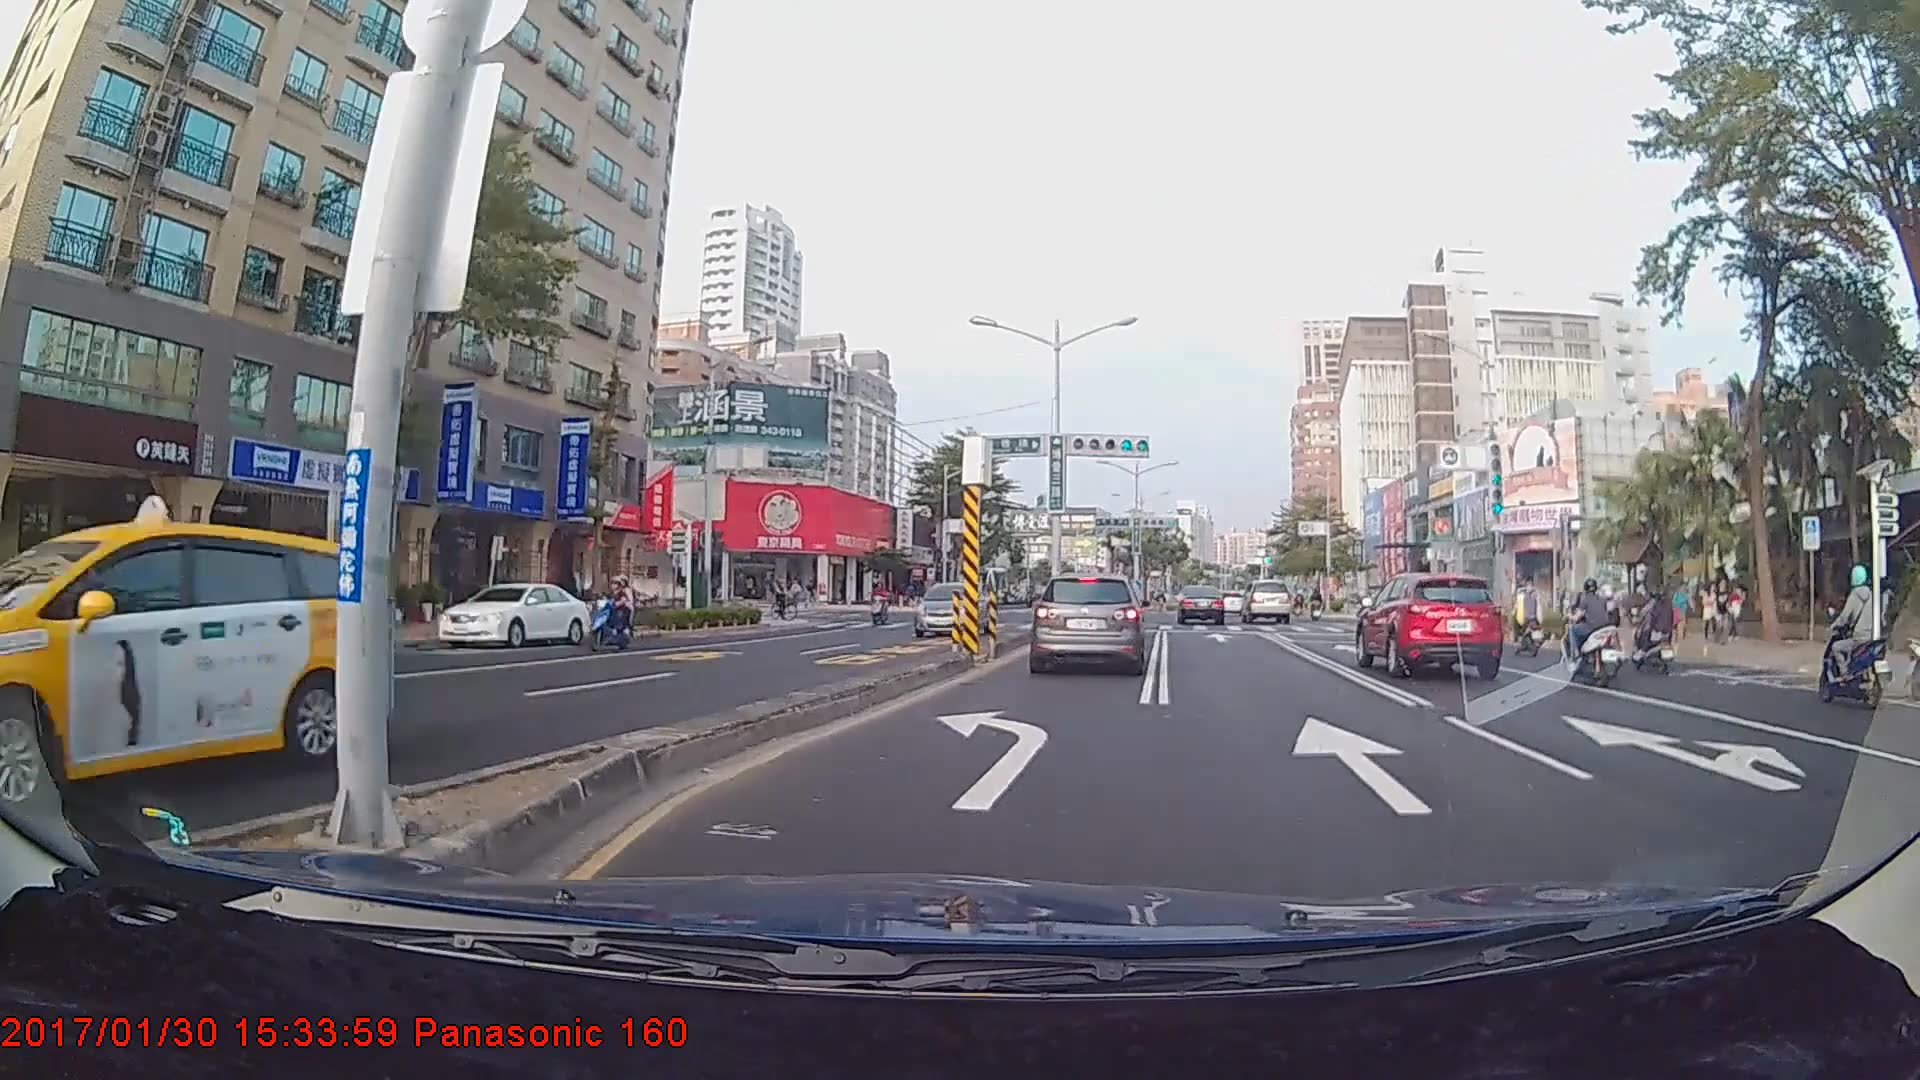pedestrian: (1672, 580, 1694, 647), (1713, 580, 1733, 644), (1702, 581, 1722, 641)
rider: (1807, 564, 1888, 714), (1554, 572, 1625, 683), (579, 574, 640, 657), (1623, 579, 1674, 674), (863, 577, 893, 630), (765, 576, 795, 626)
vehicle: (0, 519, 388, 811), (1356, 569, 1505, 678), (1027, 570, 1144, 675), (434, 581, 591, 649), (910, 581, 988, 637), (1239, 579, 1292, 624), (1176, 584, 1225, 626)
